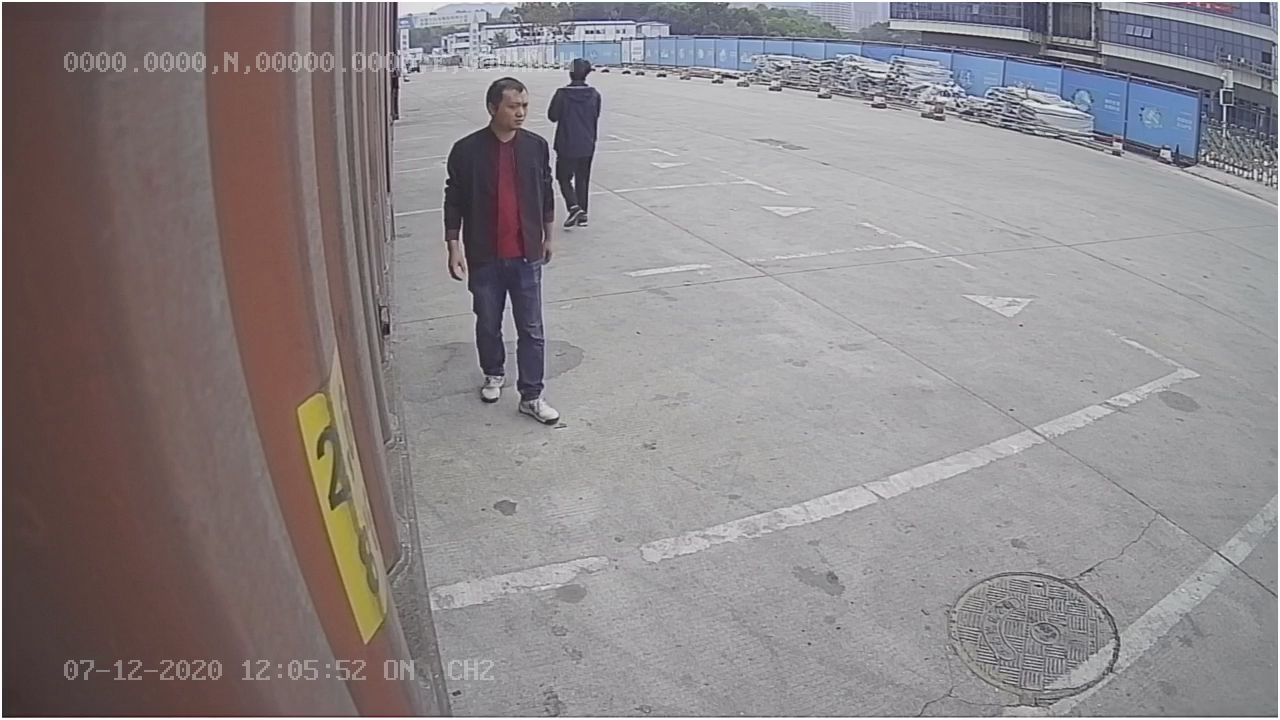person: (443, 76, 555, 428)
